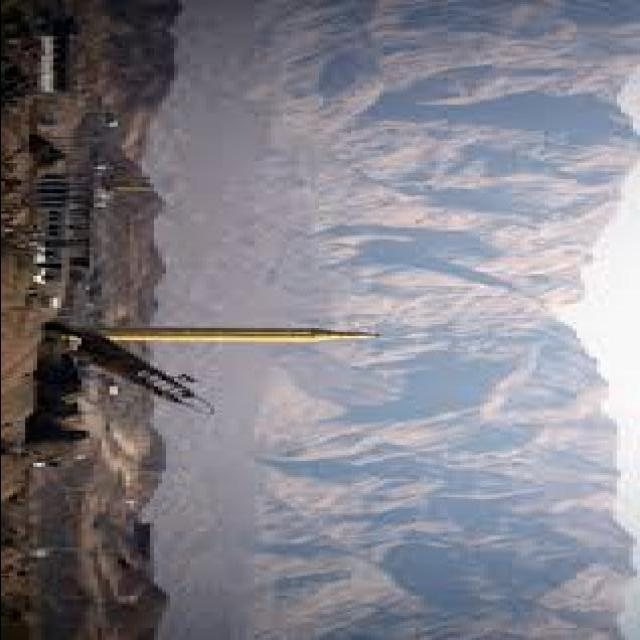missile: (99, 321, 397, 344)
